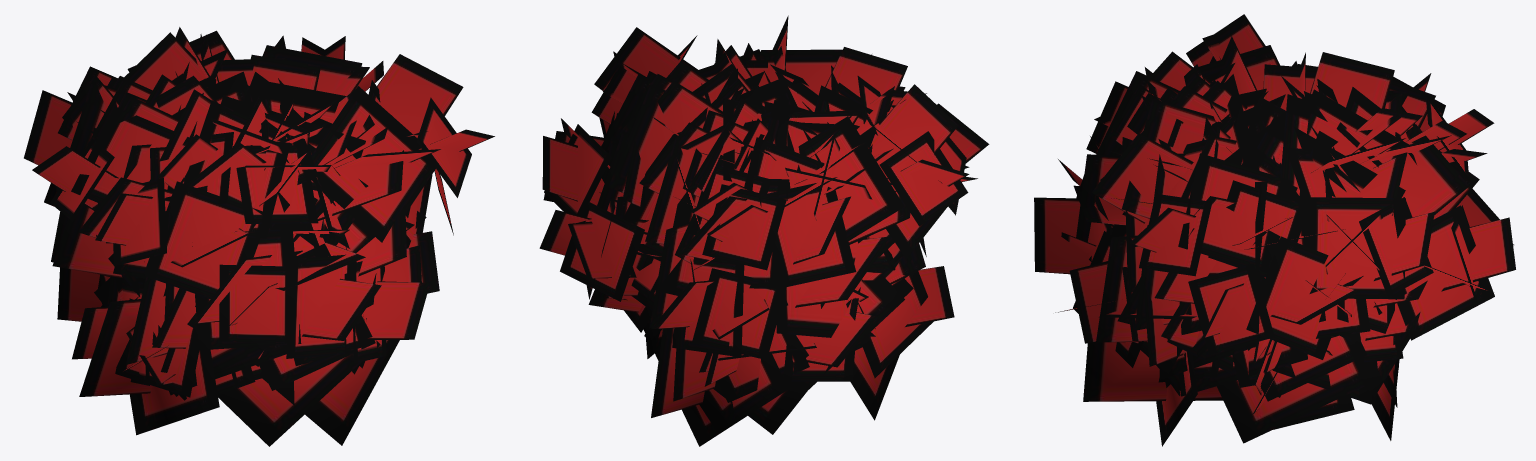
File: cali.glb
3 views of the same model, side by side, from view 1: azimuth 30°, elevation 25°; view 2: azimuth 150°, elevation 25°; view 3: azimuth 270°, elevation 25° (orthographic). The views are drawn at different scales.
Visible parts, largest first — view 1: Bush_Common; view 2: Bush_Common; view 3: Bush_Common.
Boxes of the visible parts, x1,y1,x2,y2 form: Bush_Common: [24, 27, 494, 446]; Bush_Common: [539, 15, 989, 446]; Bush_Common: [1034, 14, 1515, 446].
Size of the model in its own units: 1.91 by 1.58 by 1.97.
Materials: 1 (1 with a texture image).
